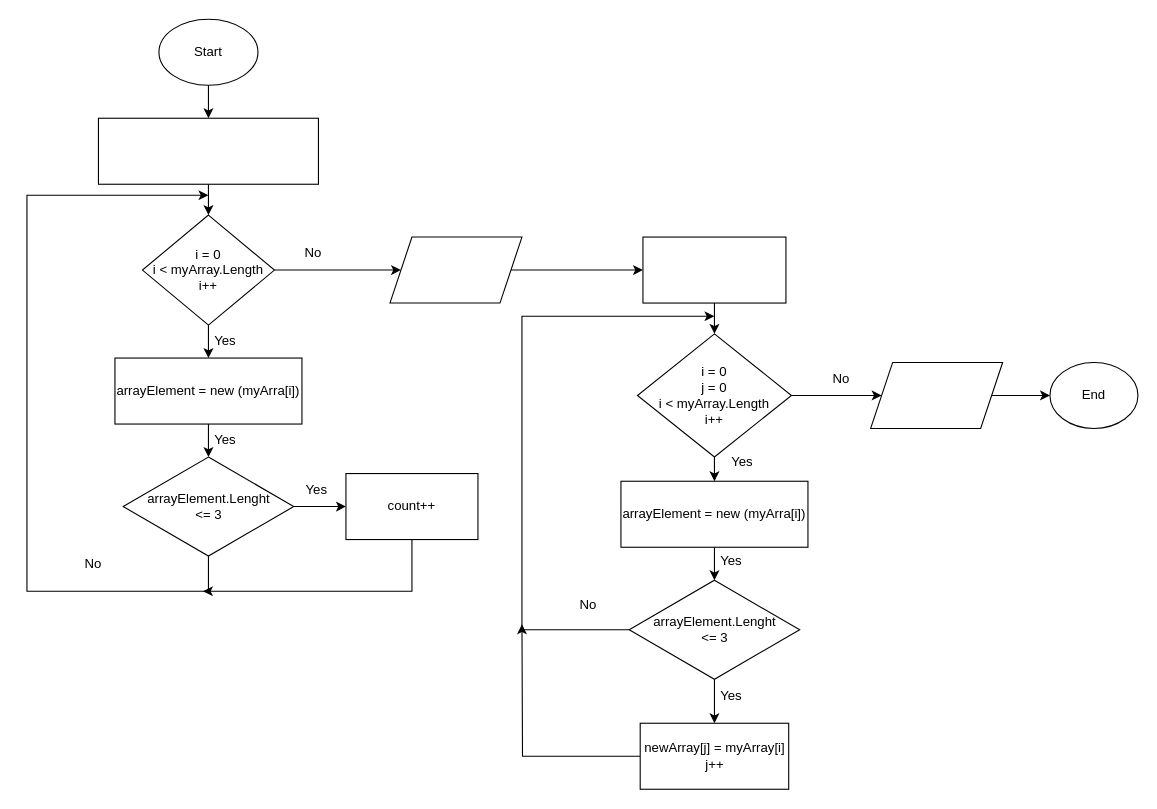
Image size: 1157x809. Some labels were removed from this diagram. Each missing label, with the box of its shape:
count: (389, 236, 522, 303)
myArray = ["Hello", "2", "world", ":-)"] count = 0: (97, 117, 318, 184)
newArray: (870, 361, 1003, 428)
newArray = new [count]: (642, 236, 786, 303)
